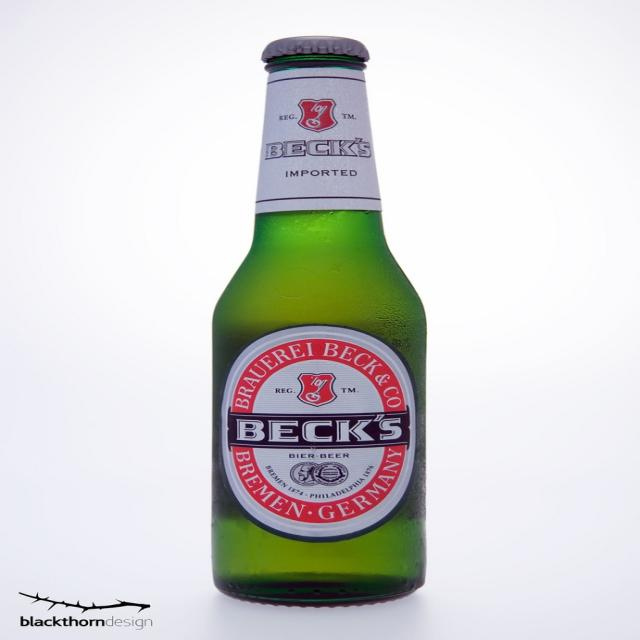becks: (220, 327, 416, 539)
